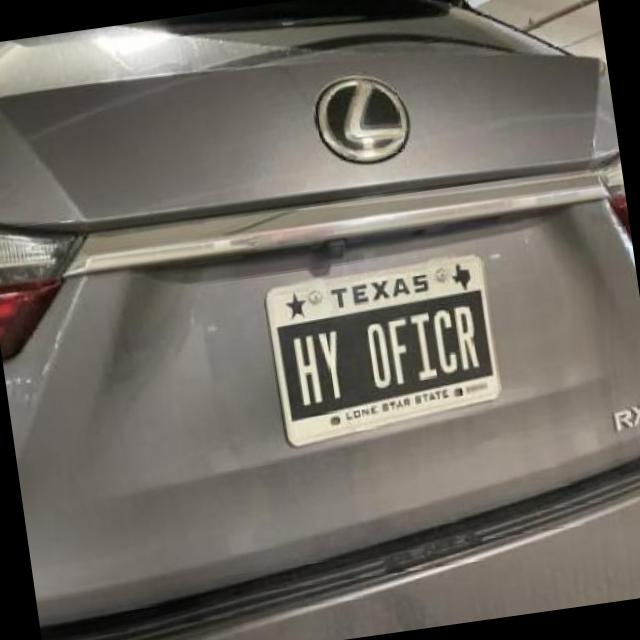LicensePlate: (262, 252, 500, 447)
